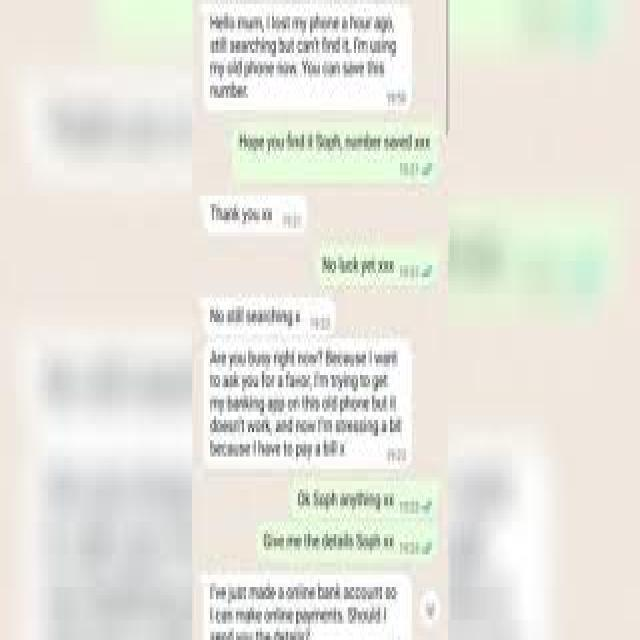scam: (212, 335, 399, 465), (203, 2, 410, 114), (204, 570, 416, 640), (204, 188, 294, 241), (208, 296, 310, 341)
